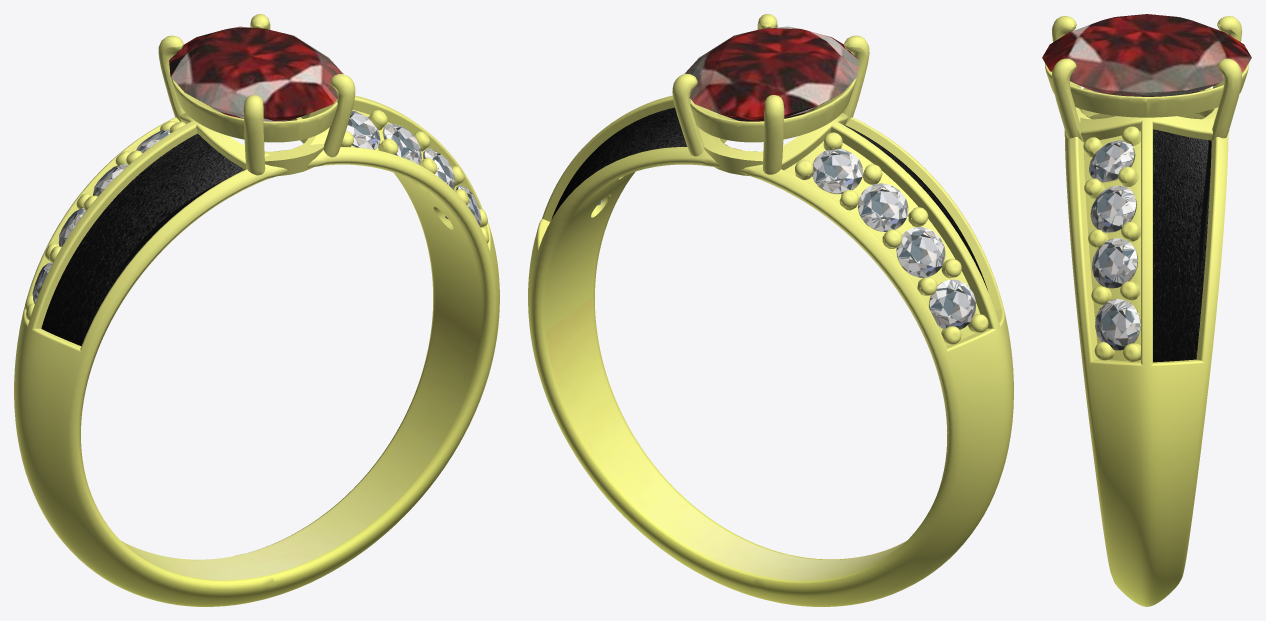
File: ring62.glb
The picture shows the model from 3 angles, left to right: view 1: azimuth 30°, elevation 25°; view 2: azimuth 150°, elevation 25°; view 3: azimuth 270°, elevation 25°; orthographic projection.
Parts seen in each view (by area): view 1: body, black, core, diamond; view 2: body, core, diamond, black; view 3: body, core, black, diamond.
Boxes of the visible parts, box(x1,y1,x2,y2) form: body: box(14, 14, 499, 606); black: box(41, 133, 244, 346); core: box(169, 26, 343, 121); diamond: box(32, 110, 481, 303); body: box(528, 14, 1013, 606); core: box(684, 26, 858, 121); diamond: box(597, 149, 975, 329); black: box(551, 107, 987, 290); body: box(1045, 16, 1248, 606); core: box(1042, 14, 1251, 96); black: box(1153, 129, 1211, 362); diamond: box(1089, 140, 1140, 350).
Bounding box in the file's own units: 24.59 × 26.97 × 9.39.
Materials: 5 (5 with a texture image).
